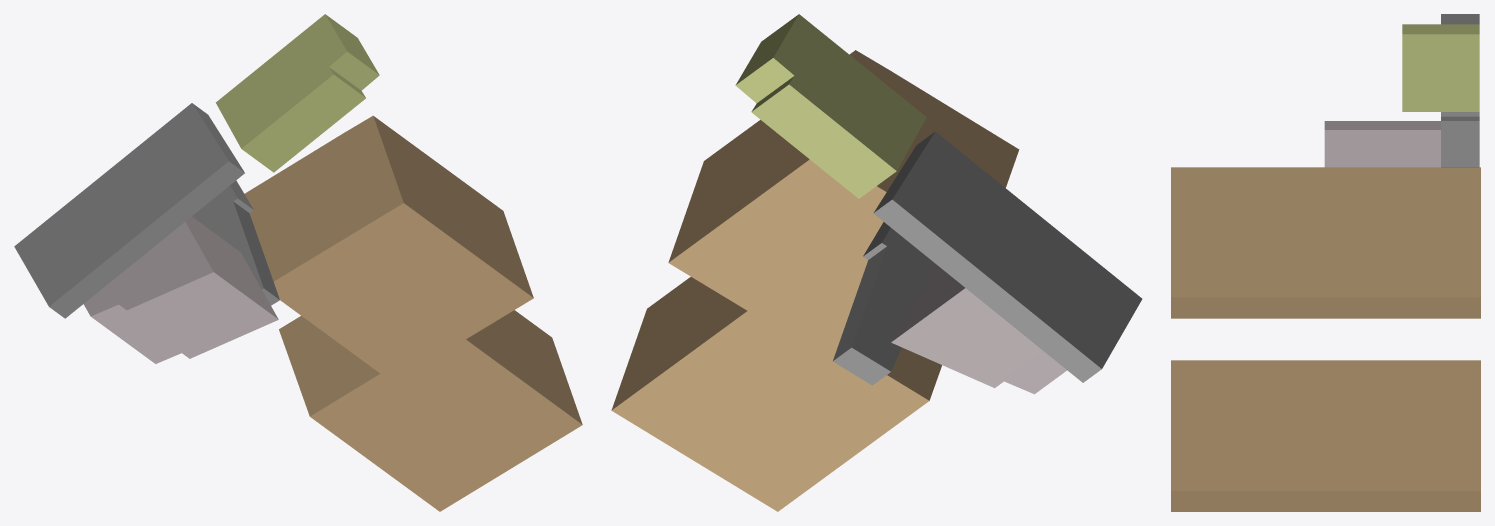
3 views of the same model, side by side, from view 1: azimuth 30°, elevation 25°; view 2: azimuth 150°, elevation 25°; view 3: azimuth 270°, elevation 25° (orthographic). The views are drawn at different scales.
Visible parts, largest first — view 1: 0_3_1_3_0_0_0_3_3; view 2: 0_3_1_3_0_0_0_3_3; view 3: 0_3_1_3_0_0_0_3_3.
Part boxes in pixels (x1,y1,x2,y2): 0_3_1_3_0_0_0_3_3: [14, 14, 582, 511]; 0_3_1_3_0_0_0_3_3: [611, 14, 1142, 511]; 0_3_1_3_0_0_0_3_3: [1171, 14, 1480, 511].
Bounding box in the file's own units: 46.72 × 40.63 × 24.
